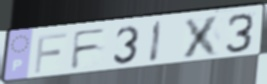3: (225, 11, 257, 55), (112, 24, 141, 65)
F: (69, 26, 110, 72), (33, 31, 70, 75)
I: (147, 19, 165, 65)
X: (180, 13, 223, 60)
